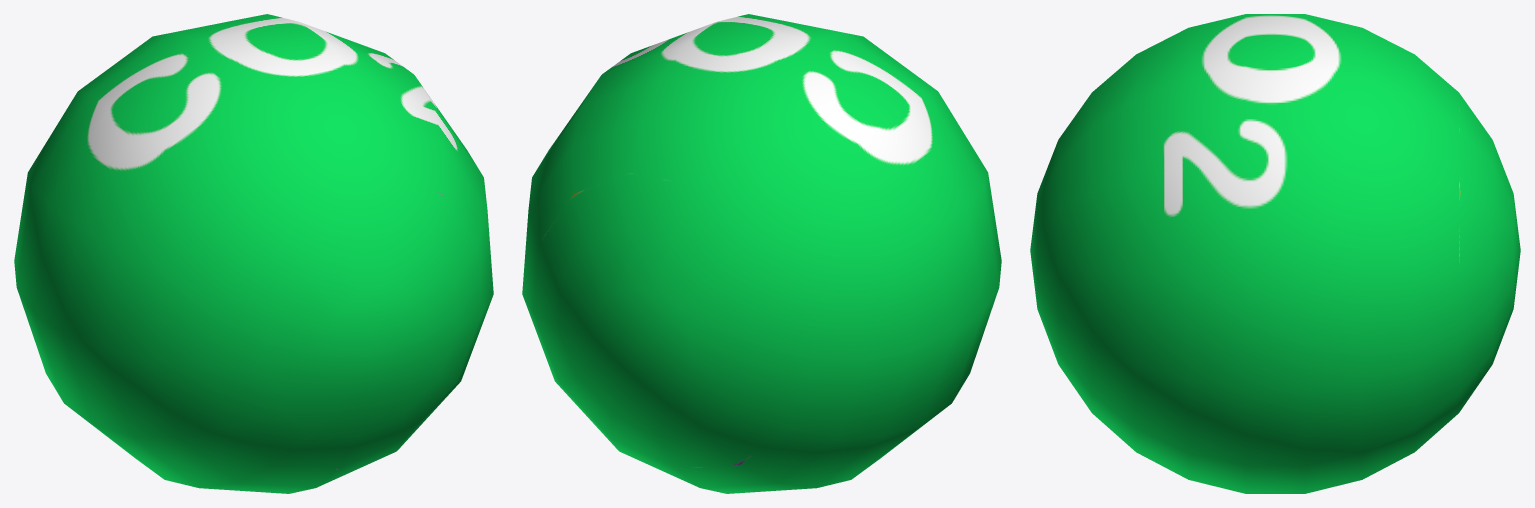
3 views of the same model, side by side, from view 1: azimuth 30°, elevation 25°; view 2: azimuth 150°, elevation 25°; view 3: azimuth 270°, elevation 25° (orthographic).
Parts seen in each view (by area): view 1: min_ans_soils; view 2: min_ans_soils; view 3: min_ans_soils.
Boxes of the visible parts, x1,y1,x2,y2 form: min_ans_soils: (14, 14, 493, 493); min_ans_soils: (522, 14, 1001, 493); min_ans_soils: (1030, 14, 1520, 493).
Size of the model in its own units: 16.59 by 16.56 by 16.86.
1 material, 1 textured.
